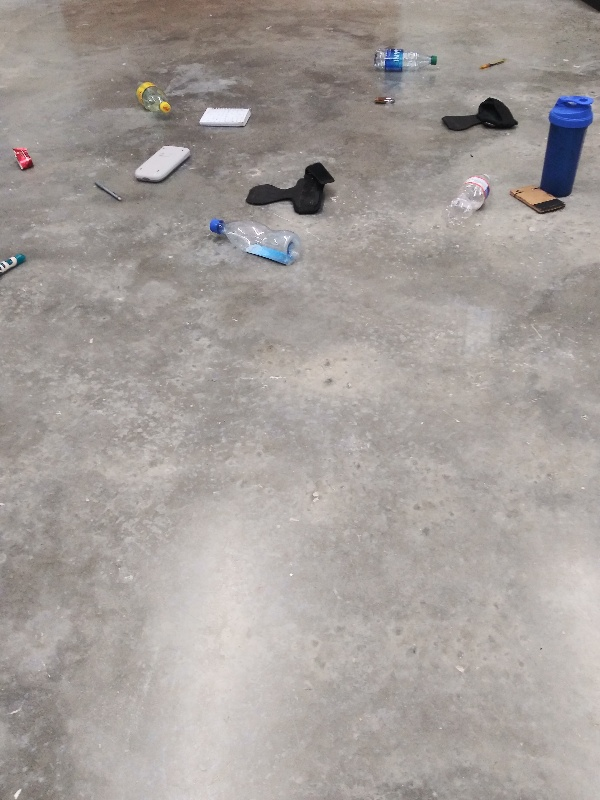bottle: (205, 214, 301, 266), (442, 170, 493, 230), (368, 45, 439, 75), (128, 75, 178, 115)
